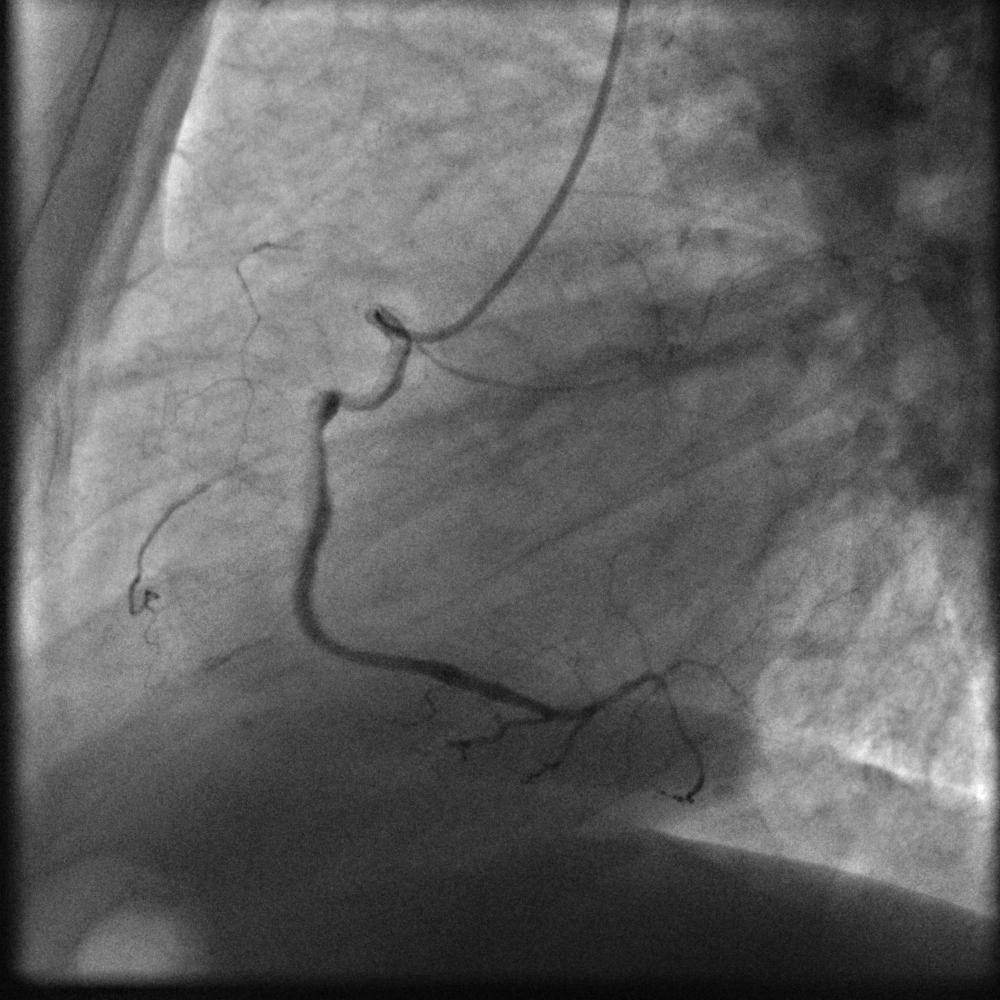Stenosis: (330, 384, 358, 415)
